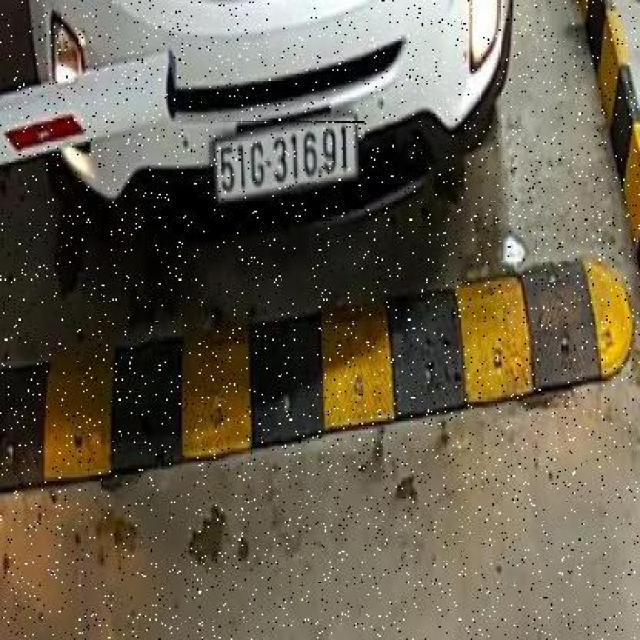number_plate: (209, 120, 365, 209)
